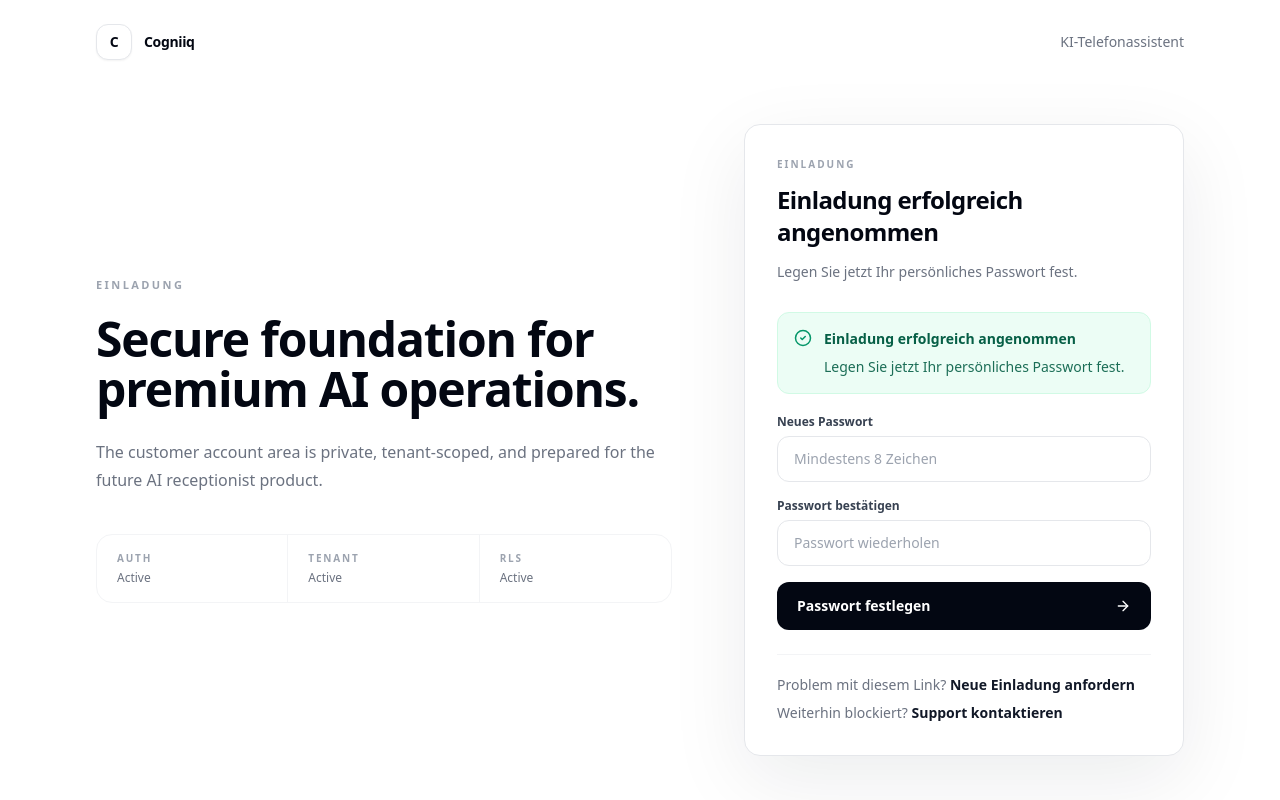
it: invite flow › updates the authenticated user and then offers "Zugang öffnen" via /auth/continue
The width and height of the screenshot is (1280, 800).
Type "correct-horse-1" into the password field labelled "Neues Passwort" at (964,459), box [777,436,1151,482]
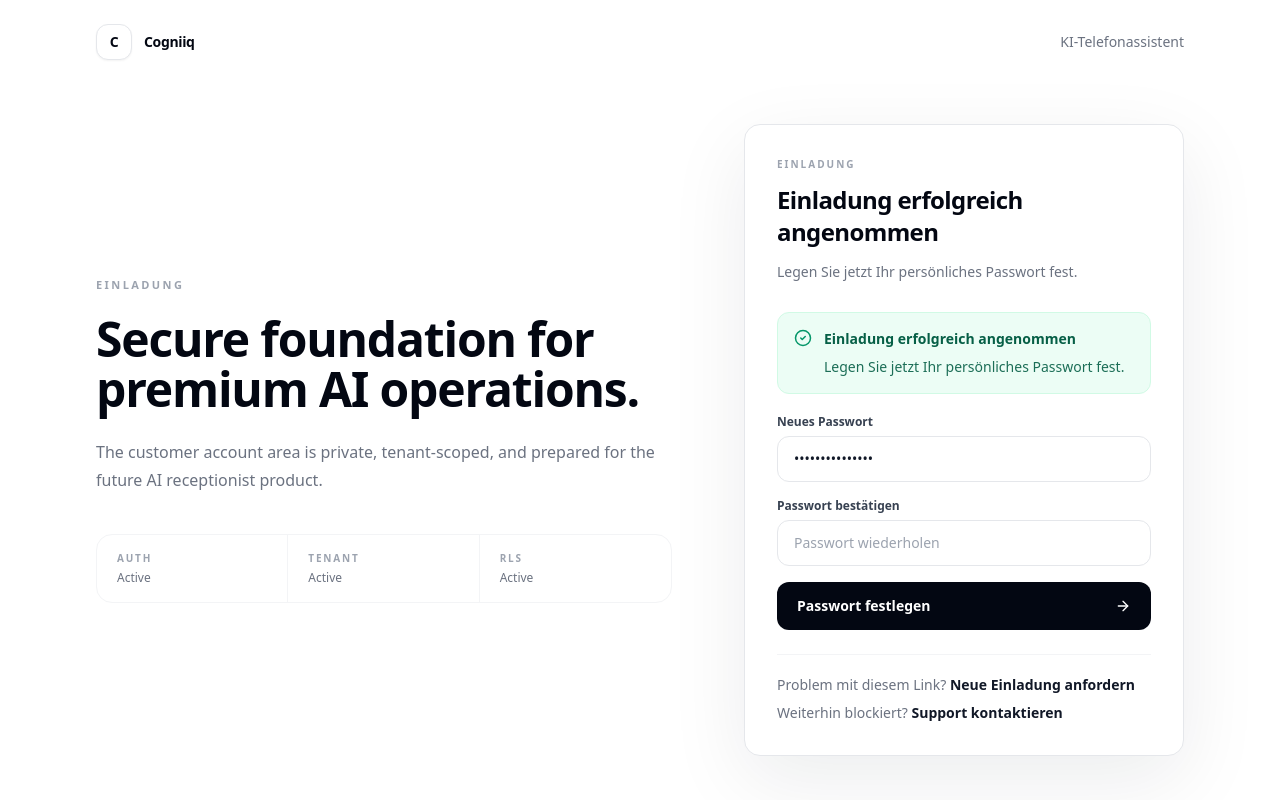
Type "correct-horse-1" into the password field labelled "Passwort bestätigen" at (964,543), box [777,520,1151,566]
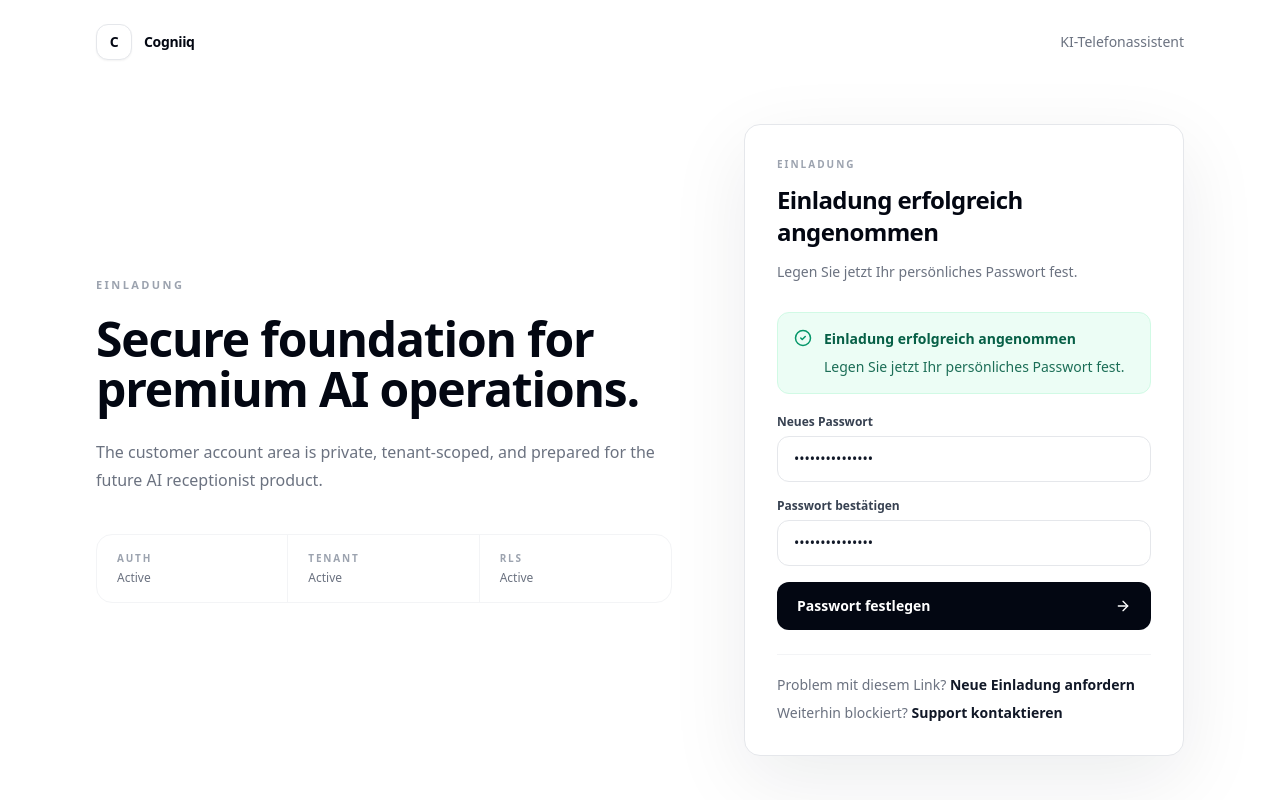
Click the button "Passwort festlegen" at (864,606), box [777,582,1151,630]
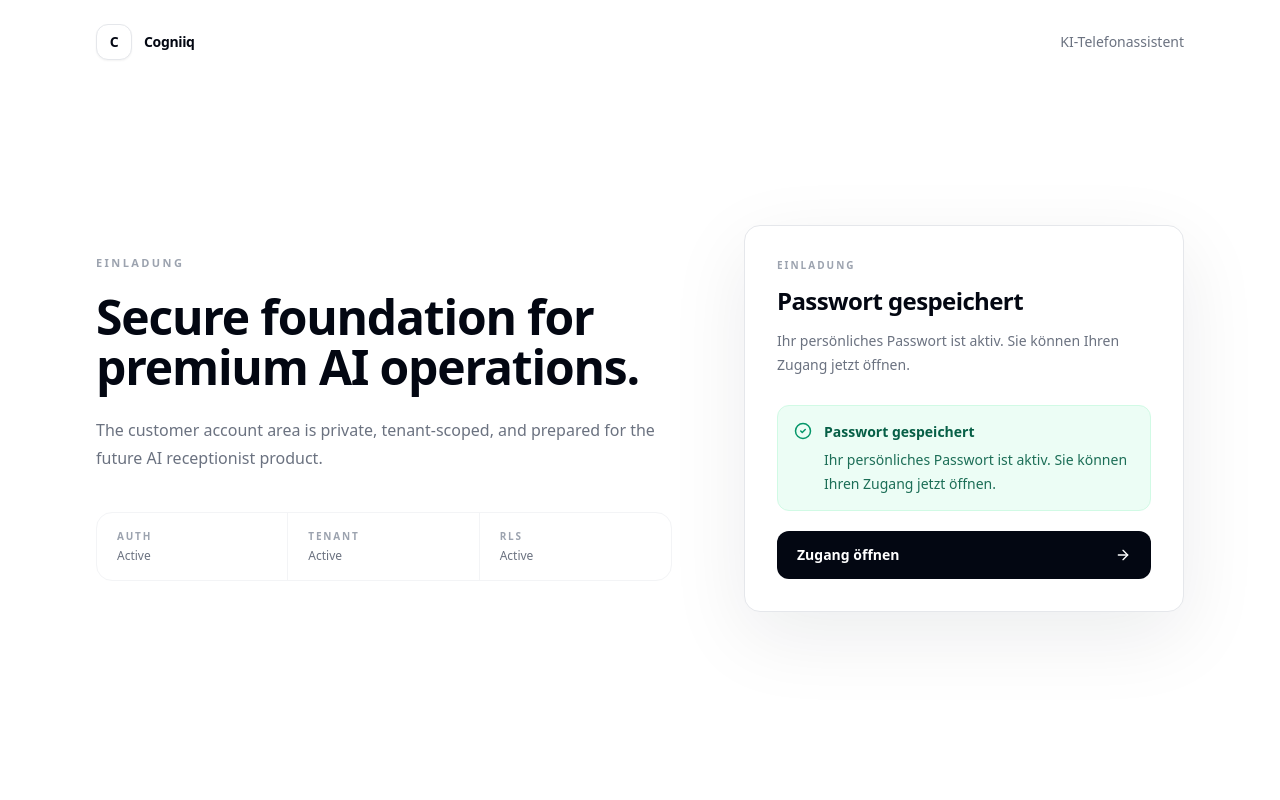
Check: the text labelled "Neues Passwort" is gone
